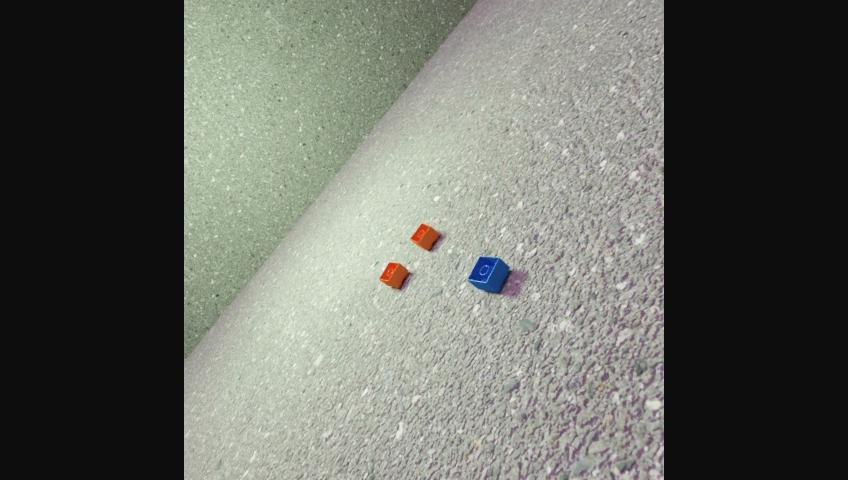2x2_blue: (466, 256, 509, 292)
2x2_orange: (409, 223, 438, 250), (378, 262, 408, 287)
